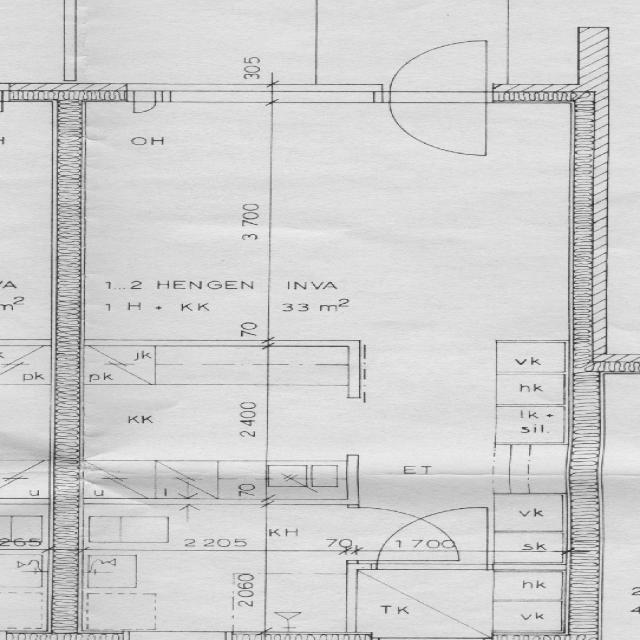door: (378, 506, 486, 570), (388, 83, 486, 153), (388, 32, 486, 101), (348, 508, 457, 560)
